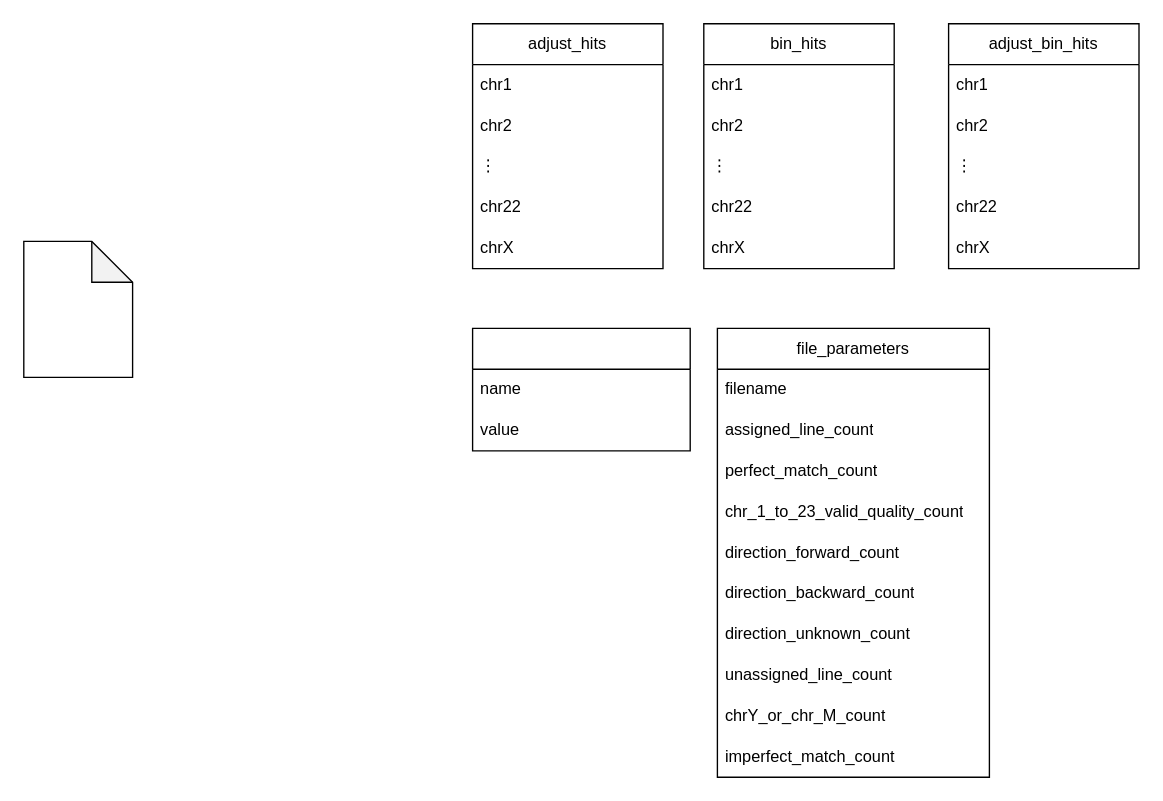
The diagram is 1163 pixels wide and 801 high, and some of its shapes have lost their labels. The shapes that lost their labels are listed below. From the top down, each one's box as (x1, y1, x2, y2) in pixels, then its label:
(22, 240, 133, 377): output.db
(471, 327, 690, 451): processing_parameters
